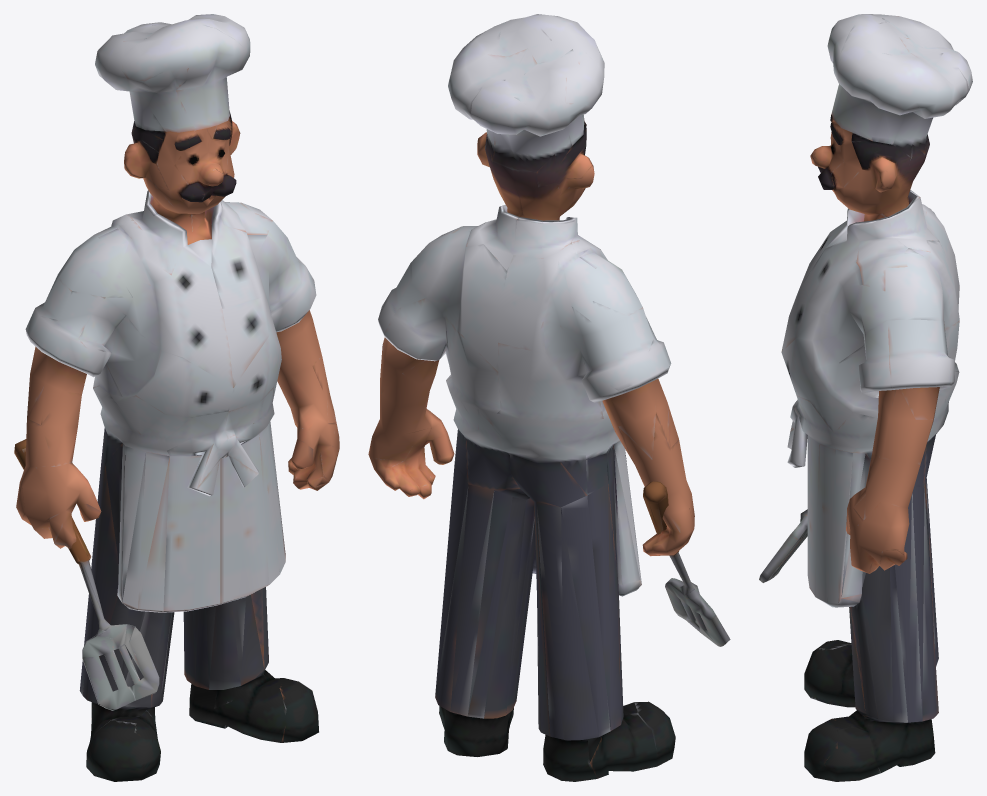
The model's file is cook.glb.
The picture shows the model from 3 angles, left to right: view 1: azimuth 30°, elevation 25°; view 2: azimuth 150°, elevation 25°; view 3: azimuth 270°, elevation 25°; orthographic projection. The views are drawn at different scales.
Visible parts, largest first — view 1: geometry_0; view 2: geometry_0; view 3: geometry_0.
Part boxes in pixels (x1,y1,x2,y2): geometry_0: (14, 14, 339, 781); geometry_0: (368, 14, 730, 781); geometry_0: (759, 14, 972, 781).
Size of the model in its own units: 0.4419 by 0.9526 by 0.2607.
Materials: 1 (1 with a texture image).
